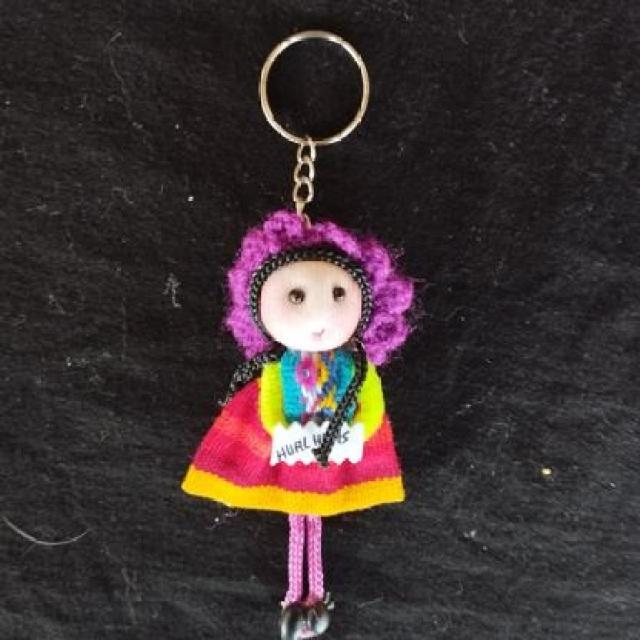Llavero: (179, 207, 417, 640)
